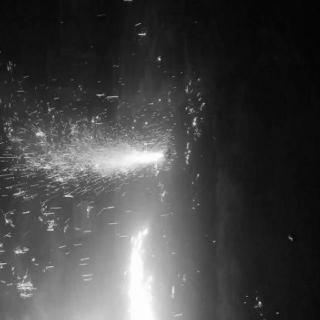Fire: (75, 137, 168, 175)
